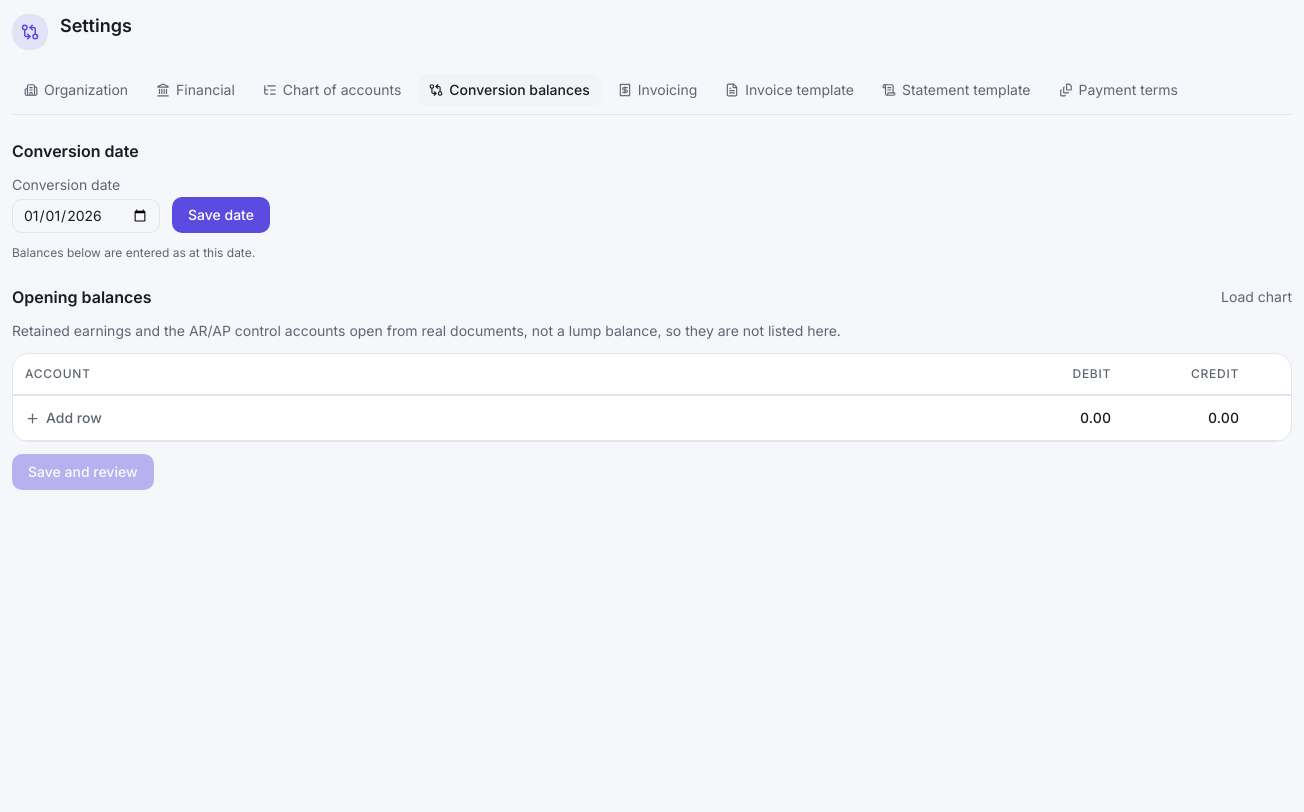
Test: ConversionBalancesPage › a row with both a debit and a credit is refused inline and excluded from the totals
Step 1. Click the button "Add row" → (63, 418), box x1=25 y1=408 x2=102 y2=428
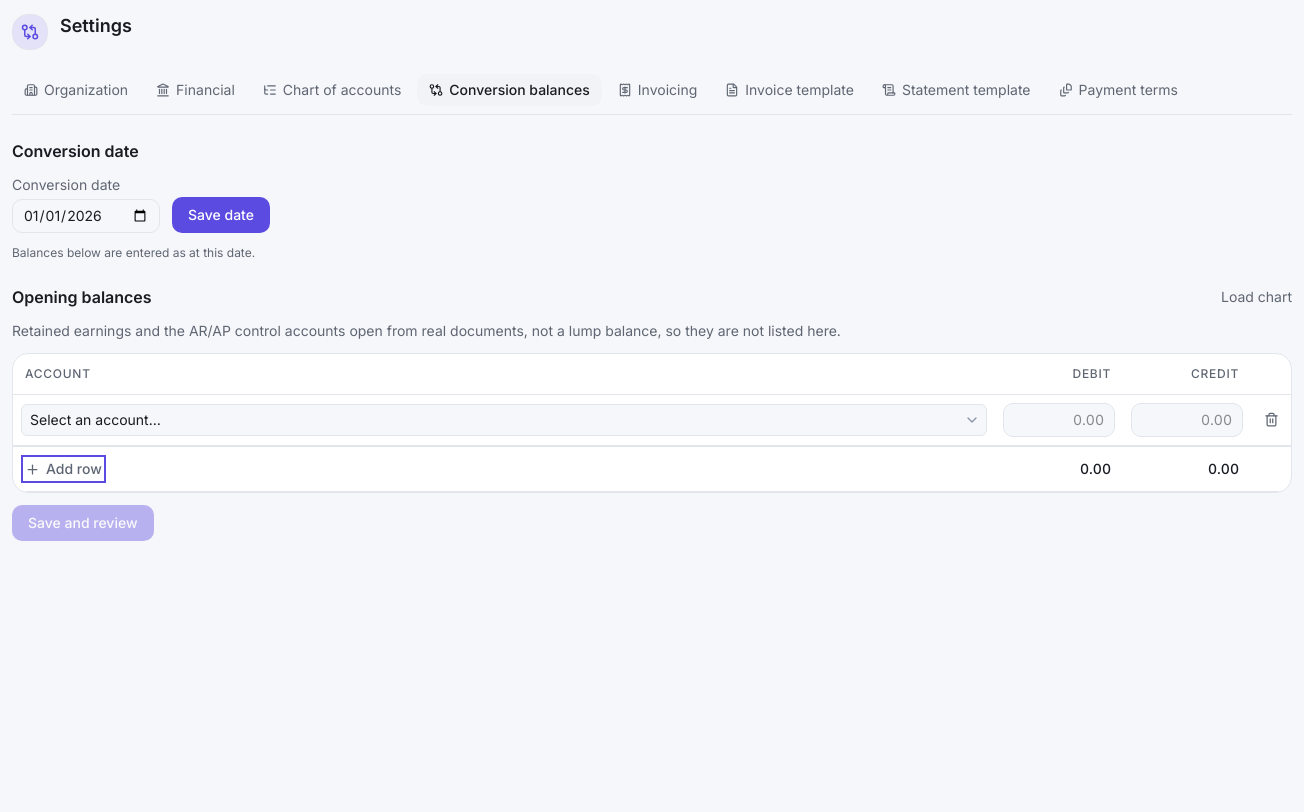
Step 2. Select "1110 · Operating Cash" in the dropdown named "Account for row 1" → (504, 420), box x1=21 y1=404 x2=987 y2=436
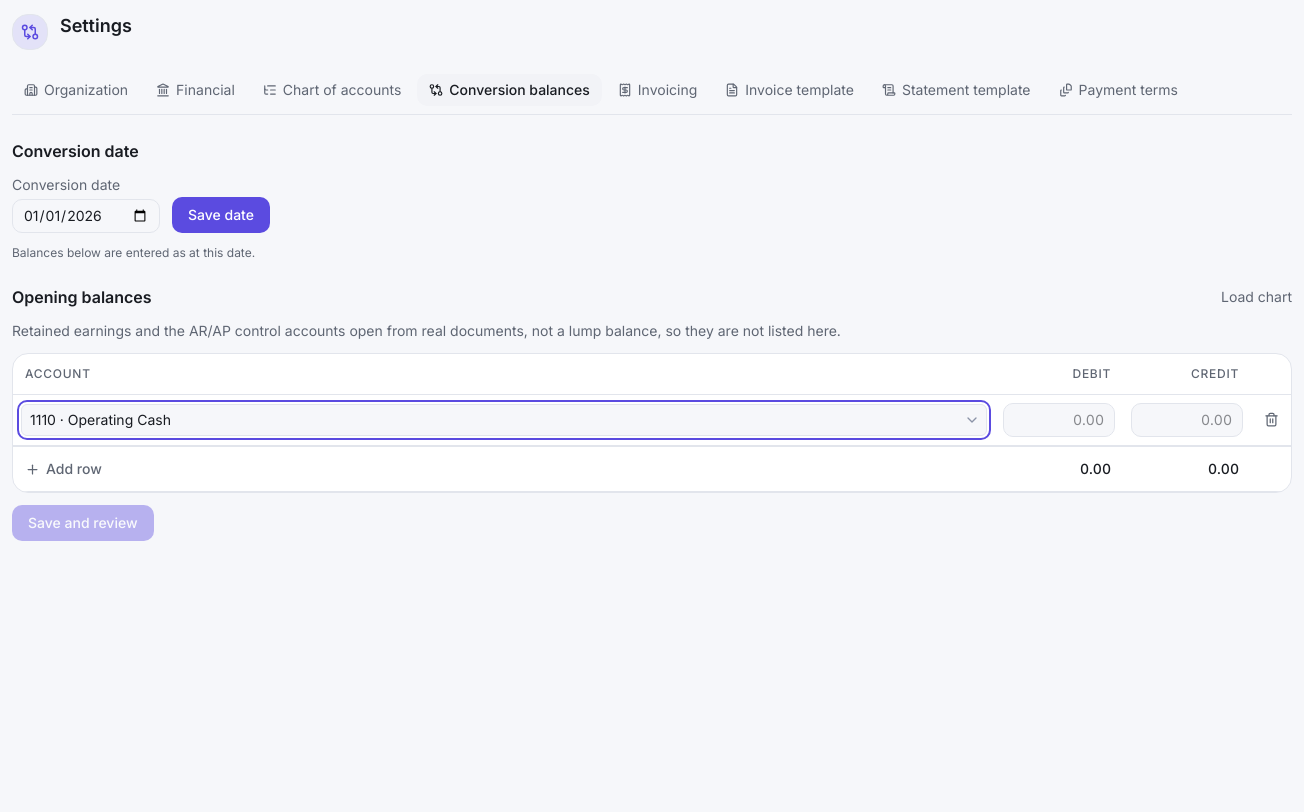
Step 3. Type "100.00" into the field named "Debit for row 1" → (1059, 420), box x1=1003 y1=403 x2=1115 y2=437
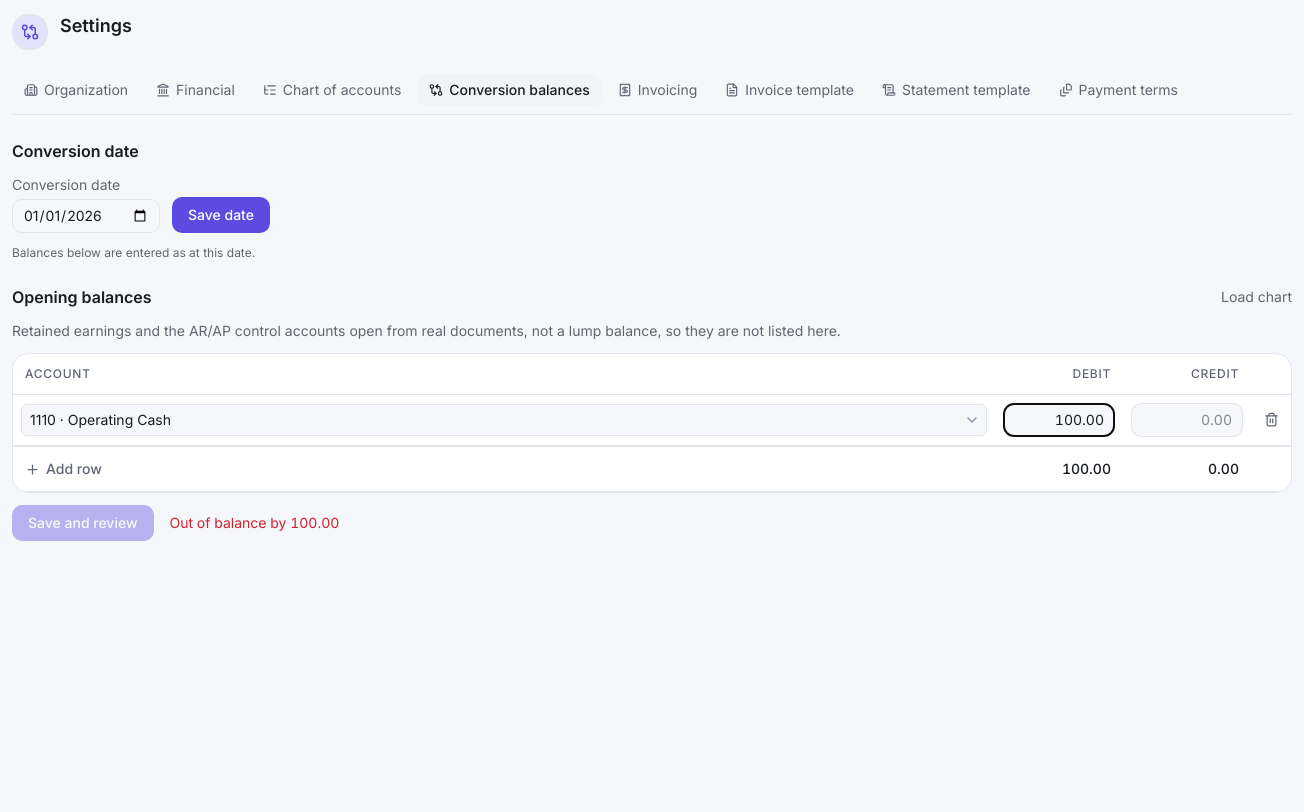
Step 4. Type "50.00" into the field named "Credit for row 1" → (1187, 420), box x1=1131 y1=403 x2=1243 y2=437
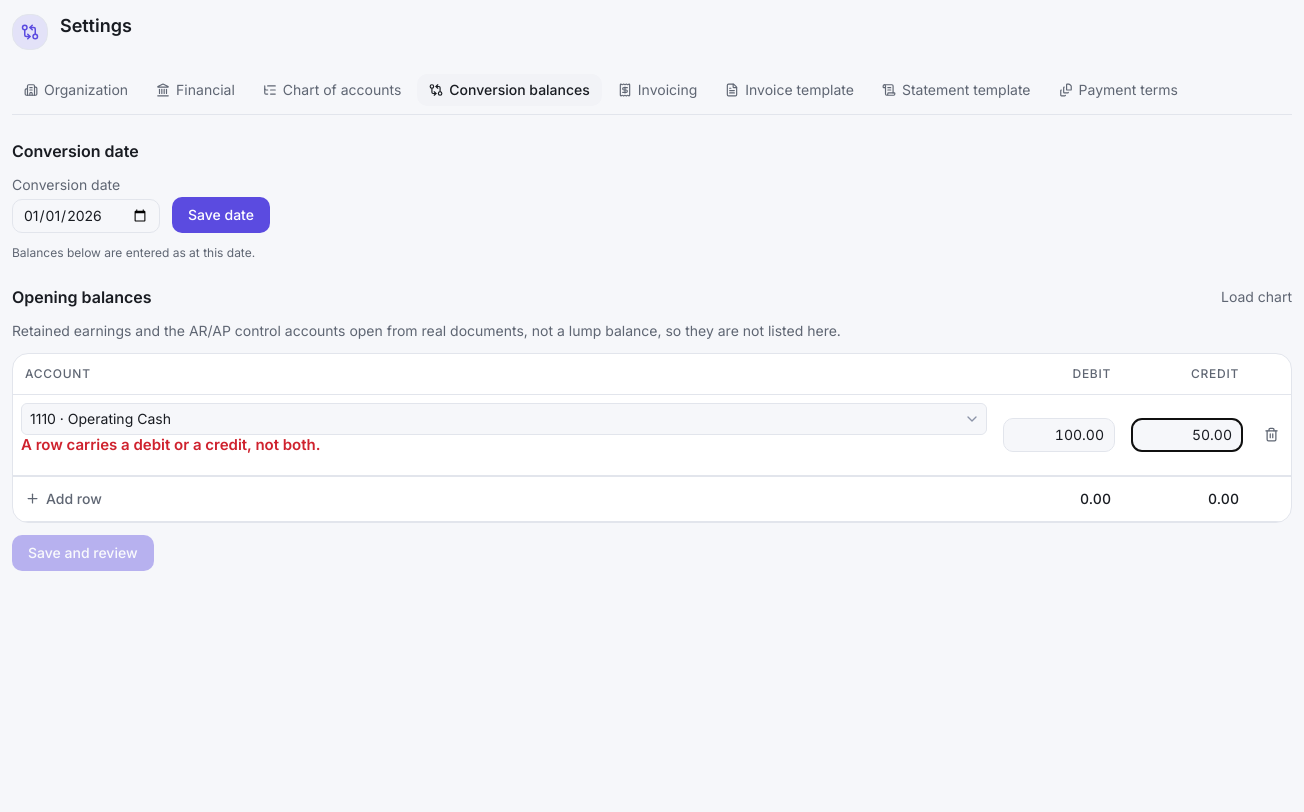
Check: the button "Save and review" is disabled, box x1=12 y1=535 x2=154 y2=571
Check: the text "A row carries a debit or a credit, not both." is shown, box x1=21 y1=435 x2=320 y2=454
Check: the text "Out of balance by" is gone
